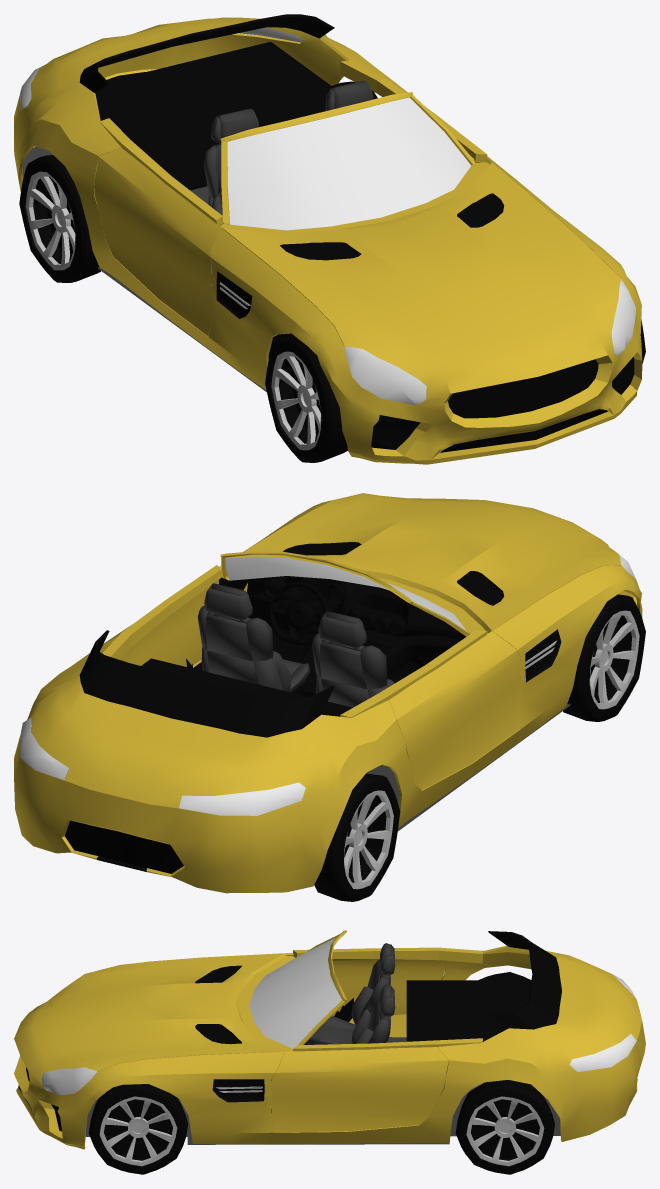
The model's file is mercedesamg.fbx.
3 renders of one model, top to bottom at view 1: azimuth 30°, elevation 25°; view 2: azimuth 150°, elevation 25°; view 3: azimuth 270°, elevation 25°, orthographic. The views are drawn at different scales.
Visible parts, largest first — view 1: Plane, Circle.004, Circle.003, Plane.002, Generic Car Seat PL.001, Generic Car Seat PL, Plane.003, Plane.001; view 2: Plane, Mercedes.002, Circle.003, Generic Car Seat PL, Circle.004, Generic Car Seat PL.001, Plane.001, Plane.003; view 3: Plane, Circle.001, Circle.002, Generic Car Seat PL.001, Generic Car Seat PL, Plane.003, Plane.001, Plane.002.
Part boxes in pixels (left/top/right/bottom): Plane: left=14, top=14, right=642, bottom=464; Circle.004: left=265, top=335, right=347, bottom=462; Circle.003: left=19, top=155, right=100, bottom=282; Plane.002: left=344, top=279, right=636, bottom=405; Generic Car Seat PL.001: left=203, top=108, right=259, bottom=225; Generic Car Seat PL: left=325, top=81, right=373, bottom=110; Plane.003: left=22, top=146, right=266, bottom=392; Plane.001: left=20, top=27, right=303, bottom=110; Plane: left=14, top=493, right=642, bottom=893; Mercedes.002: left=186, top=576, right=466, bottom=696; Circle.003: left=314, top=773, right=400, bottom=901; Generic Car Seat PL: left=197, top=583, right=310, bottom=692; Circle.004: left=563, top=594, right=645, bottom=721; Generic Car Seat PL.001: left=312, top=611, right=394, bottom=707; Plane.001: left=20, top=717, right=305, bottom=815; Plane.003: left=366, top=704, right=570, bottom=831; Plane: left=14, top=930, right=645, bottom=1149; Circle.001: left=455, top=1080, right=554, bottom=1174; Circle.002: left=88, top=1084, right=188, bottom=1174; Generic Car Seat PL.001: left=307, top=943, right=395, bottom=1044; Generic Car Seat PL: left=354, top=984, right=395, bottom=1043; Plane.003: left=85, top=1037, right=560, bottom=1144; Plane.001: left=570, top=975, right=636, bottom=1071; Plane.002: left=41, top=1067, right=97, bottom=1095.
Bounding box in the file's own units: 134 × 86.54 × 305.
